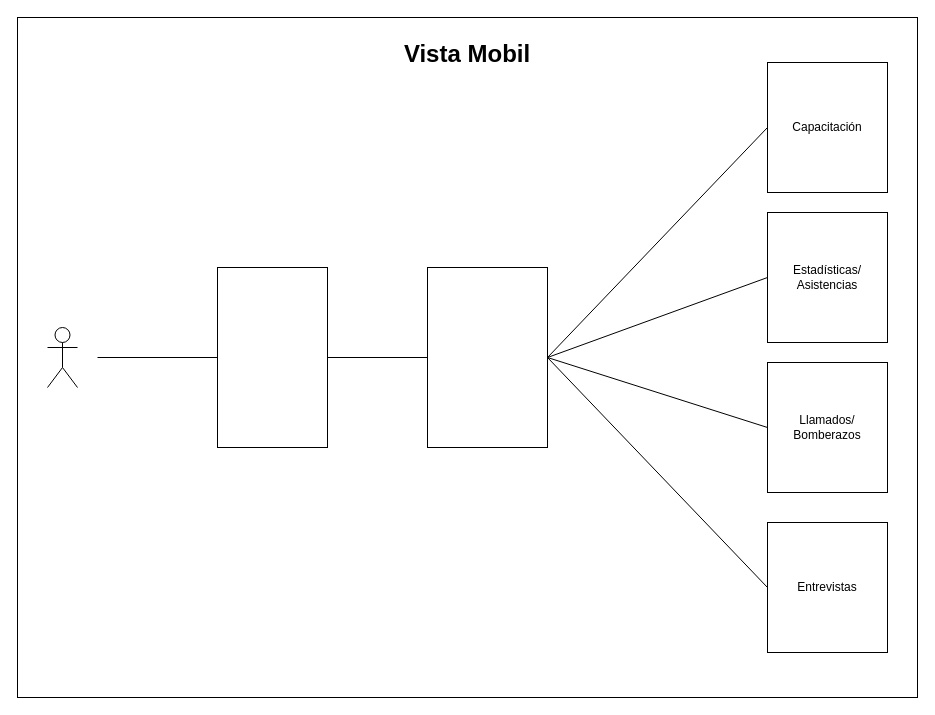
Some shapes in this 935 by 715 pixel diagram are drawn without their labels. Each missing label, with the box of its shape:
Cliente: (46, 326, 78, 388)
Ingreso/Registro: (216, 266, 328, 448)
Vista Principal: (426, 266, 548, 448)
